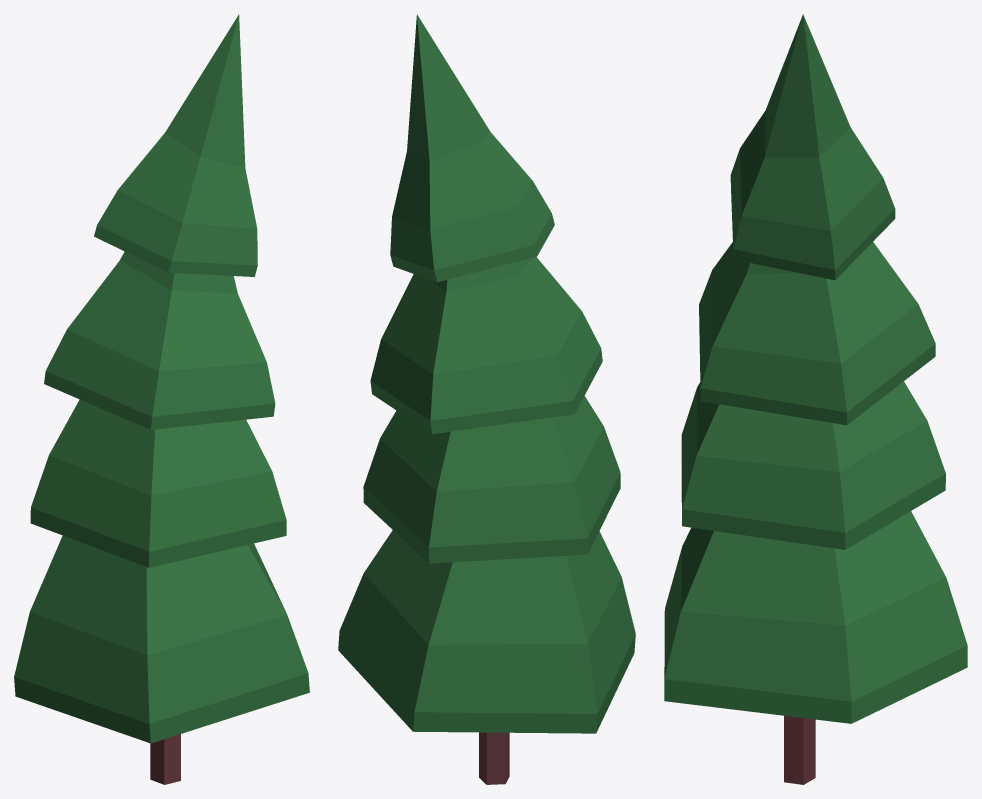
File: tree_3.fbx
The picture shows the model from 3 angles, left to right: view 1: azimuth 30°, elevation 25°; view 2: azimuth 150°, elevation 25°; view 3: azimuth 270°, elevation 25°; orthographic projection. The views are drawn at different scales.
Parts seen in each view (by area): view 1: Cone, Cone.001, Cone.002, Cone.003, Cylinder; view 2: Cone, Cone.001, Cone.002, Cone.003, Cylinder; view 3: Cone, Cone.001, Cone.002, Cone.003, Cylinder.
Boxes of the visible parts, box(x1,y1,x2,y2) form: Cone: box(14, 535, 309, 743); Cone.001: box(30, 399, 286, 567); Cone.002: box(44, 251, 275, 429); Cone.003: box(94, 14, 257, 276); Cylinder: box(150, 734, 180, 784); Cone: box(338, 530, 635, 733); Cone.001: box(363, 396, 620, 563); Cone.002: box(370, 257, 602, 434); Cone.003: box(390, 14, 554, 282); Cylinder: box(479, 732, 509, 784); Cone: box(664, 511, 967, 723); Cone.001: box(681, 381, 945, 549); Cone.002: box(699, 242, 935, 425); Cone.003: box(730, 14, 895, 280); Cylinder: box(784, 715, 815, 784).
Bounding box in the file's own units: 71.29 × 196 × 67.14.
